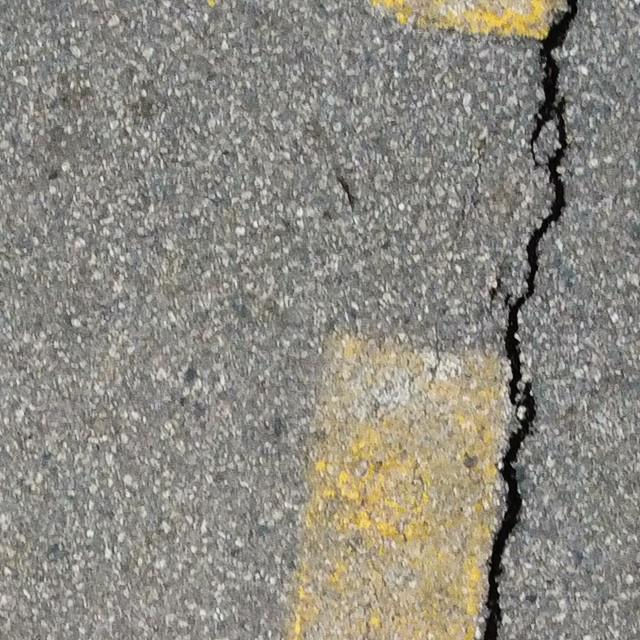LongitudinalCrack: (479, 1, 579, 639)
